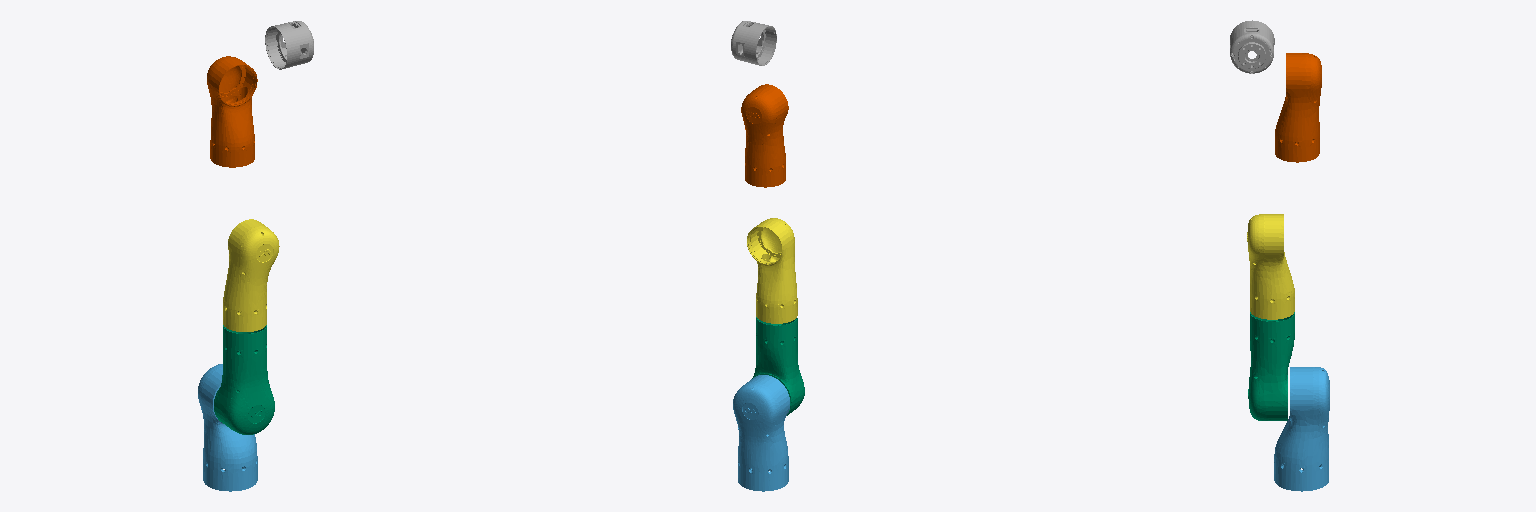
robot.urdf — A02L-MP:
<?xml version="1.0"?>
<!-- ======================================================================== -->
<!-- | Flexiv Rizon4 Arm (with approximated dynamic parameters)             | -->
<!-- ======================================================================== -->
<robot name="A02L-MP">
  <joint name="joint1" type="revolute">
    <parent link="base_link" />
    <child link="link1" />
    <origin rpy="0 0 3.141592653589793" xyz="0.0 0.0 0.155" />
    <axis xyz="0 0 1" />
    <limit effort="123" lower="-2.7925" upper="2.7925" velocity="2.0944" />
  </joint>
  <joint name="joint2" type="revolute">
    <parent link="link1" />
    <child link="link2" />
    <origin rpy="0 0 0" xyz="0.0 0.03 0.210" />
    <axis xyz="0 1 0" />
    <limit effort="123" lower="-2.2689" upper="2.2689" velocity="2.0944" />
  </joint>
  <joint name="joint3" type="revolute">
    <parent link="link2" />
    <child link="link3" />
    <origin rpy="0 0 0" xyz="0.0 0.035 0.205" />
    <axis xyz="0 0 1" />
    <limit effort="64" lower="-2.9671" upper="2.9671" velocity="2.4435" />
  </joint>
  <joint name="joint4" type="revolute">
    <parent link="link3" />
    <child link="link4" />
    <origin rpy="0 0 -3.141592653589793" xyz="-0.02 -0.03 0.19" />
    <axis xyz="0 1 0" />
    <limit effort="64" lower="-1.8675" upper="2.6878" velocity="2.4435" />
  </joint>
  <joint name="joint5" type="revolute">
    <parent link="link4" />
    <child link="link5" />
    <origin rpy="0 0 -3.141592653589793" xyz="-0.02 0.025 0.195" />
    <axis xyz="0 0 1" />
    <limit effort="39" lower="-2.9671" upper="2.9671" velocity="4.8869" />
  </joint>
  <joint name="joint6" type="revolute">
    <parent link="link5" />
    <child link="link6" />
    <origin rpy="0 0 0" xyz="0.0 0.03 0.19" />
    <axis xyz="0 1 0" />
    <limit effort="39" lower="-1.3963" upper="4.5379" velocity="4.8869" />
  </joint>
  <joint name="joint7" type="revolute">
    <parent link="link6" />
    <child link="link7" />
    <origin rpy="0 -1.5707963267948966 0" xyz="-0.055 0.070 0.11" />
    <axis xyz="0 0 1" />
    <limit effort="39" lower="-2.9671" upper="2.9671" velocity="4.8869" />
  </joint>
  <joint name="link7_to_flange" type="fixed">
    <parent link="link7" />
    <child link="flange" />
    <origin rpy="0 0 -3.141592653589793" xyz="0.0 0.0 0.081" />
  </joint>

  <link name="base_link">
    <inertial>
      <mass value="3.7" />
      <origin rpy="0 0 0" xyz="0.0 -0.0 0.09" />
      <inertia ixx="0.019" ixy="0.0" ixz="0.0" iyy="0.02" iyz="0.0" izz="0.009" />
    </inertial>
    <visual>
      <origin rpy="0 0 0" xyz="0 0 0" />
      <geometry>
        <mesh filename="meshes/visual/link0.stl" />
      </geometry>
    </visual>
    <collision>
      <origin rpy="0 0 0" xyz="0 0 0" />
      <geometry>
        <mesh filename="meshes/collision/link0.stl" />
      </geometry>
    </collision>
  </link>
  <link name="link1">
    <inertial>
      <mass value="3.7" />
      <origin rpy="0 0 0" xyz="0.0 0.01 0.15" />
      <inertia ixx="0.028" ixy="0.0" ixz="0.0" iyy="0.027" iyz="0.002" izz="0.008" />
    </inertial>
    <visual>
      <origin rpy="0 0 0" xyz="0 0 0" />
      <geometry>
        <mesh filename="meshes/visual/link1.stl" />
      </geometry>
    </visual>
    <collision>
      <origin rpy="0 0 0" xyz="0 0 0" />
      <geometry>
        <mesh filename="meshes/collision/link1.stl" />
      </geometry>
    </collision>
  </link>
  <link name="link2">
    <inertial>
      <mass value="2.7" />
      <origin rpy="0 0 0" xyz="0.0 0.04 0.1" />
      <inertia ixx="0.023" ixy="0.0" ixz="0.0" iyy="0.024" iyz="-0.0" izz="0.004" />
    </inertial>
    <visual>
      <origin rpy="0 0 0" xyz="0 0 0" />
      <geometry>
        <mesh filename="meshes/visual/link2.stl" />
      </geometry>
    </visual>
    <collision>
      <origin rpy="0 0 0" xyz="0 0 0" />
      <geometry>
        <mesh filename="meshes/collision/link2.stl" />
      </geometry>
    </collision>
  </link>
  <link name="link3">
    <inertial>
      <mass value="2.4" />
      <origin rpy="0 0 0" xyz="-0.01 -0.0 0.13" />
      <inertia ixx="0.014" ixy="0.0" ixz="-0.001" iyy="0.014" iyz="-0.001" izz="0.004" />
    </inertial>
    <visual>
      <origin rpy="0 0 0" xyz="0 0 0" />
      <geometry>
        <mesh filename="meshes/visual/link3.stl" />
      </geometry>
    </visual>
    <collision>
      <origin rpy="0 0 0" xyz="0 0 0" />
      <geometry>
        <mesh filename="meshes/collision/link3.stl" />
      </geometry>
    </collision>
  </link>
  <link name="link4">
    <inertial>
      <mass value="2.4" />
      <origin rpy="0 0 0" xyz="-0.01 0.03 0.1" />
      <inertia ixx="0.018" ixy="0.0" ixz="-0.002" iyy="0.019" iyz="-0.001" izz="0.003" />
    </inertial>
    <visual>
      <origin rpy="0 0 0" xyz="0 0 0" />
      <geometry>
        <mesh filename="meshes/visual/link4.stl" />
      </geometry>
    </visual>
    <collision>
      <origin rpy="0 0 0" xyz="0 0 0" />
      <geometry>
        <mesh filename="meshes/collision/link4.stl" />
      </geometry>
    </collision>
  </link>
  <link name="link5">
    <inertial>
      <mass value="2.4" />
      <origin rpy="0 0 0" xyz="0.0 0.0 0.13" />
      <inertia ixx="0.014" ixy="0.0" ixz="0.0" iyy="0.013" iyz="0.001" izz="0.004" />
    </inertial>
    <visual>
      <origin rpy="0 0 0" xyz="0 0 0" />
      <geometry>
        <mesh filename="meshes/visual/link5.stl" />
      </geometry>
    </visual>
    <collision>
      <origin rpy="0 0 0" xyz="0 0 0" />
      <geometry>
        <mesh filename="meshes/collision/link5.stl" />
      </geometry>
    </collision>
  </link>
  <link name="link6">
    <inertial>
      <mass value="2.1" />
      <origin rpy="0 0 0" xyz="-0.01 0.06 0.07" />
      <inertia ixx="0.008" ixy="-0.0" ixz="-0.001" iyy="0.009" iyz="0.002" izz="0.004" />
    </inertial>
    <visual>
      <origin rpy="0 0 0" xyz="0 0 0" />
      <geometry>
        <mesh filename="meshes/visual/link6.stl" />
      </geometry>
    </visual>
    <collision>
      <origin rpy="0 0 0" xyz="0 0 0" />
      <geometry>
        <mesh filename="meshes/collision/link6.stl" />
      </geometry>
    </collision>
  </link>
  <link name="link7">
    <inertial>
      <mass value="0.8" />
      <origin rpy="0 0 0" xyz="0.0 0.0 0.03" />
      <inertia ixx="0.001" ixy="0.0" ixz="0.0" iyy="0.001" iyz="0.0" izz="0.001" />
    </inertial>
    <visual>
      <origin rpy="0 0 0" xyz="0 0 0" />
      <geometry>
        <mesh filename="meshes/visual/link7.stl" />
      </geometry>
    </visual>
    <collision>
      <origin rpy="0 0 0" xyz="0 0 0" />
      <geometry>
        <mesh filename="meshes/collision/link7.stl" />
      </geometry>
    </collision>
  </link>
  <link name="flange" />
  <material name="rizon_blue">
    <color rgba="0. 0. 1. 0.5" />
  </material>
  <material name="rizon_light_grey">
    <color rgba="0.9 0.9 0.9 1" />
  </material>
  <material name="rizon_dark_grey">
    <color rgba="0.2 0.2 0.2 1" />
  </material>
  <material name="rizon_white">
    <color rgba="1 1 1 1" />
  </material>
</robot>

--- Render facts (derived) ---
Views: 3 orthographic renders of the robot side by side, from view 1: azimuth 30°, elevation 25°; view 2: azimuth 150°, elevation 25°; view 3: azimuth 270°, elevation 25°.
Model A02L-MP with 9 links and 8 joints (7 revolute, 1 fixed), rooted at base_link, posed every joint at zero.
Visible links, largest first — view 1: link2, link3, link5, link1, link7; view 2: link1, link3, link5, link2, link7; view 3: link1, link5, link2, link3, link7.
Link boxes in pixels (box(x1,y1,x2,y2)): link2: box(214, 325, 274, 434); link3: box(223, 219, 279, 331); link5: box(207, 56, 257, 167); link1: box(198, 364, 257, 491); link7: box(265, 21, 313, 69); link1: box(733, 375, 789, 491); link3: box(747, 218, 797, 323); link5: box(741, 84, 788, 187); link2: box(752, 317, 804, 415); link7: box(731, 21, 776, 65); link1: box(1274, 367, 1329, 491); link5: box(1275, 53, 1321, 162); link2: box(1248, 312, 1294, 420); link3: box(1247, 214, 1294, 319); link7: box(1230, 20, 1274, 73).
Size in the robot's own frame: 0.1971 by 0.2235 by 1.15 metres.
Meshes: 8 distinct files referenced, 5 mesh visuals loaded (5 binary STL); not drawn: 3 (reference not matched to a file when rendering).
